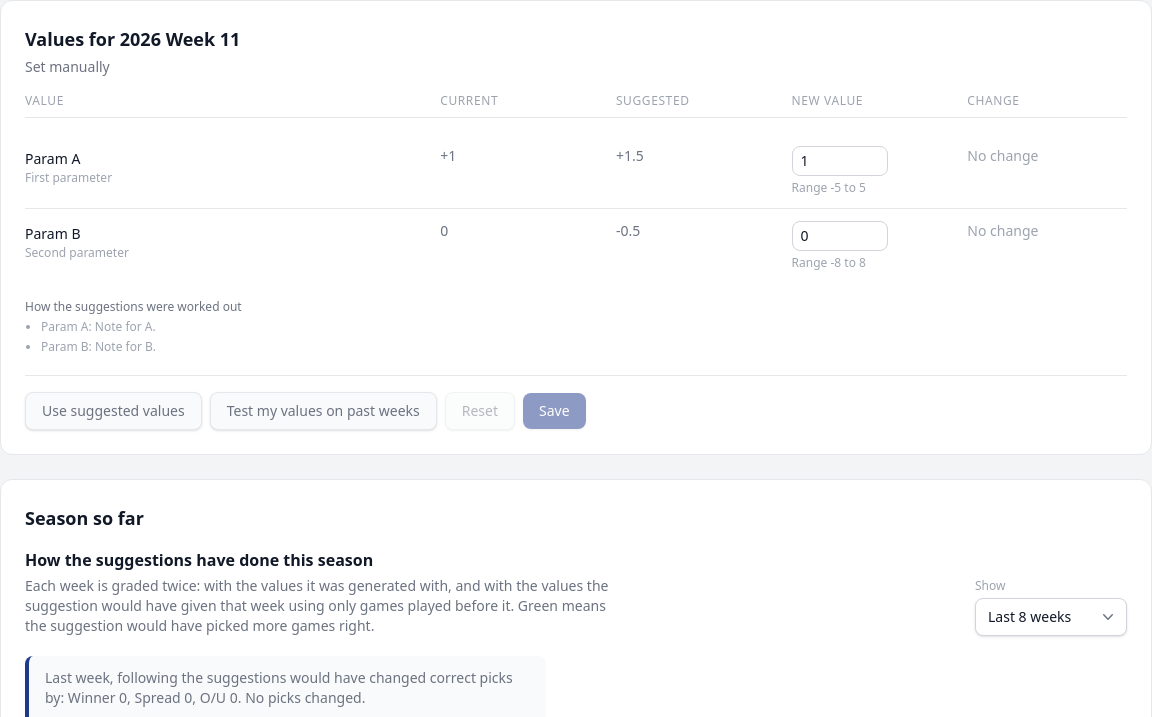
Test case: PredictionCalibrationSection › saves the typed values and shows a confirmation
Replace the text in the number field labelled "Param A" with "2.5". click: x=840, y=161
box: [792,146,888,176]
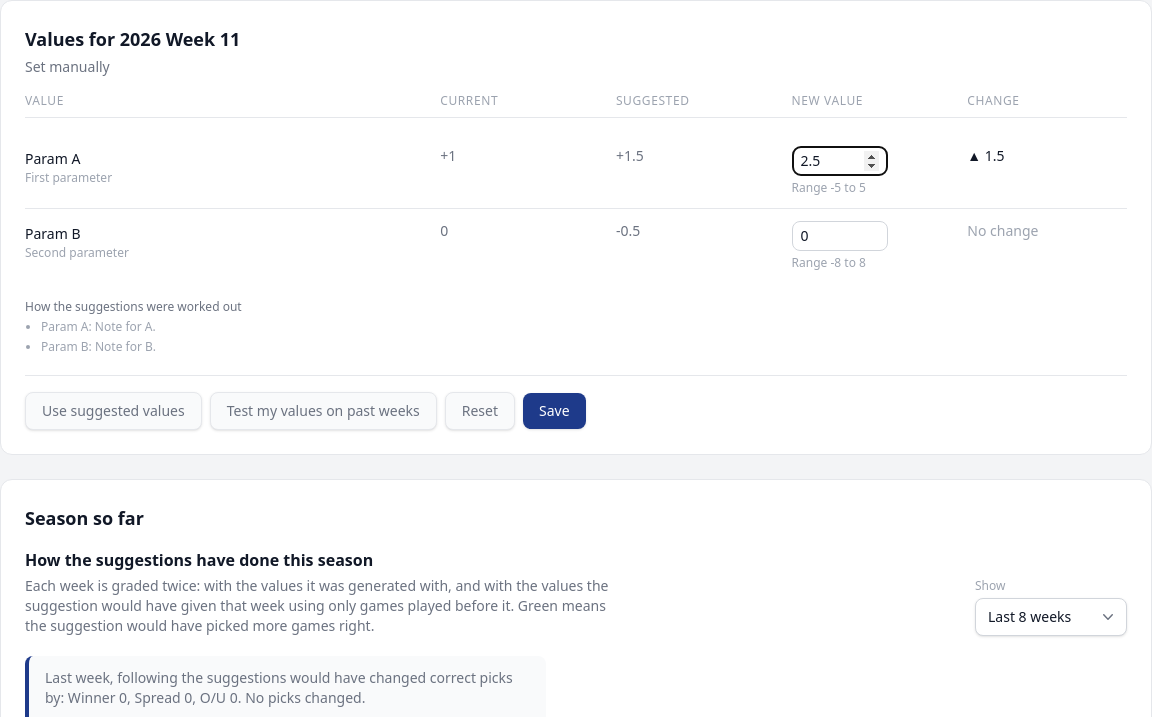
Click the button "Save". click: x=554, y=411
box: [523,393,586,429]
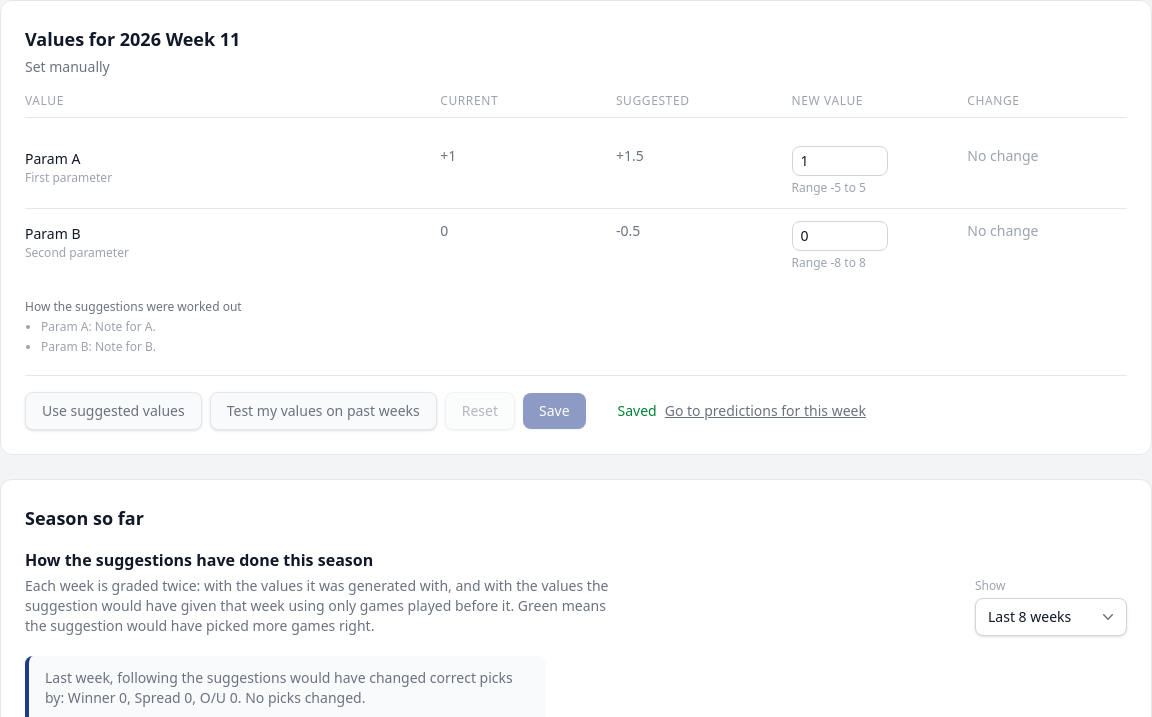
expect the message reads "Saved": met, box [618,401,657,420]
